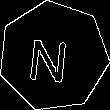N_N: (31, 29, 76, 84)
